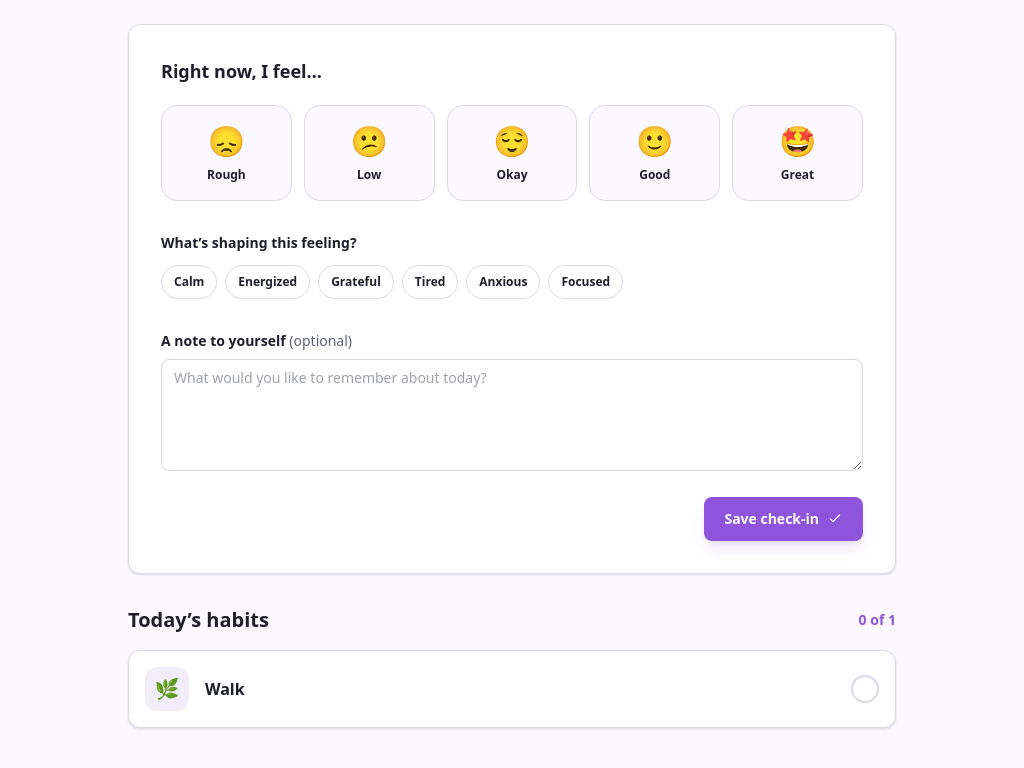
TodayPage › toggles a habit successfully
The width and height of the screenshot is (1024, 768).
(page scrolled)
What coordinates should you click on to do the following:
click the button "🌿 Walk"
I would click on:
 (167, 689)
Its box is [128,650,896,728].
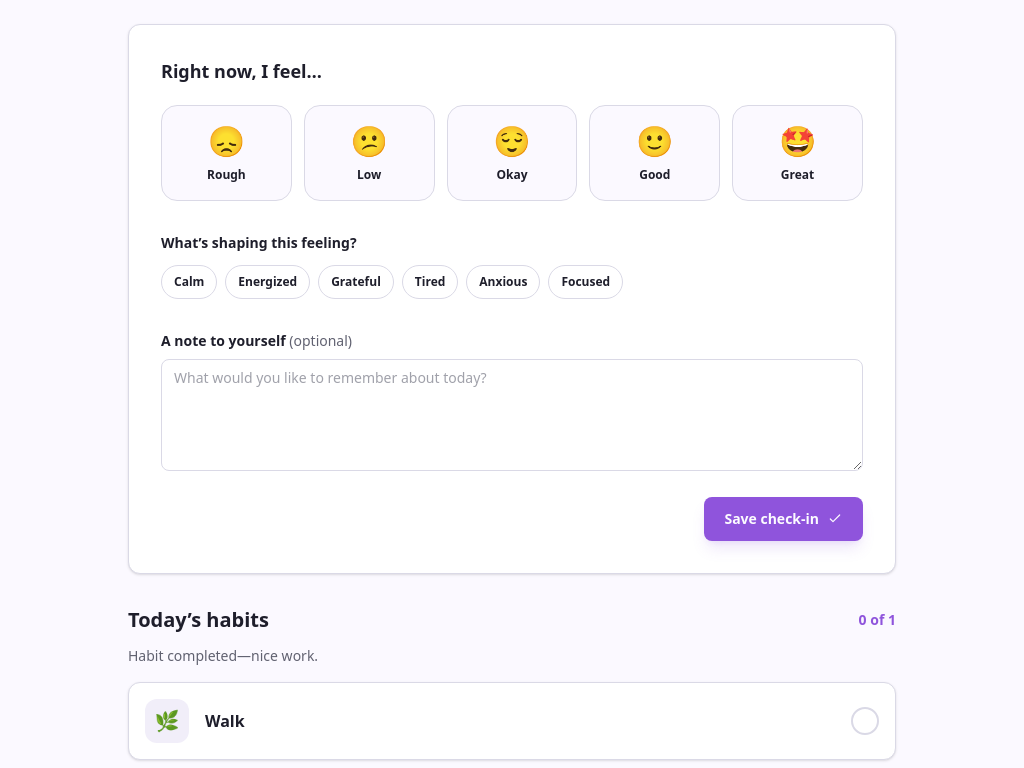
Check: the text "Habit completed—nice work." is shown, box [128,646,318,665]
